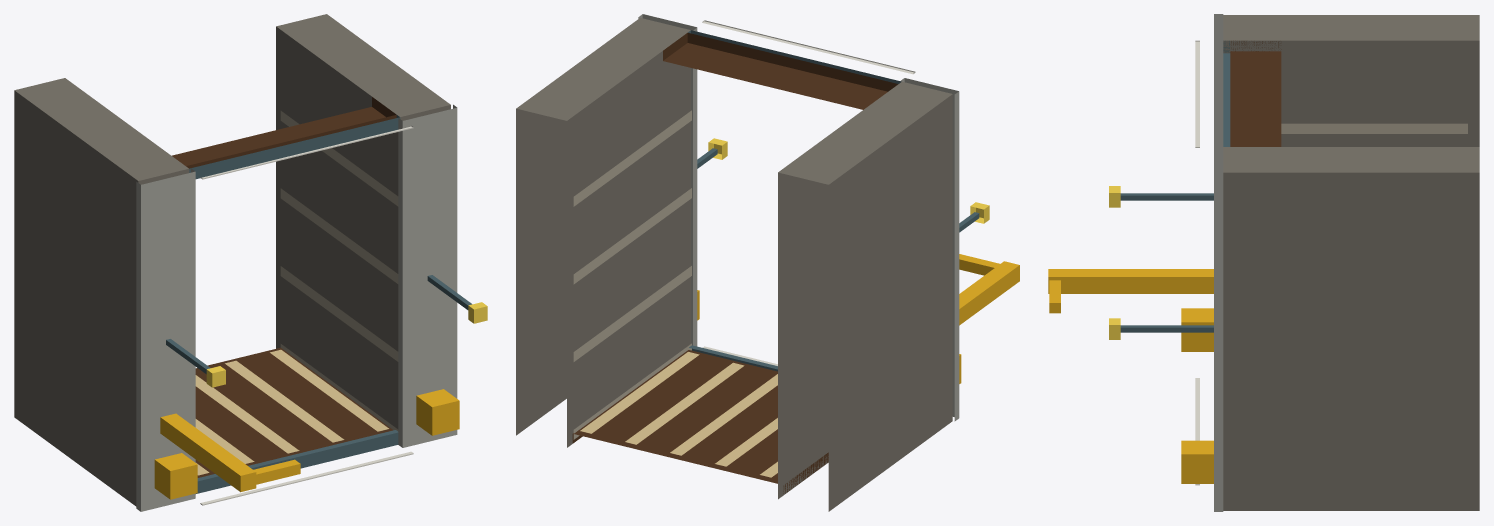
File: middle.glb
3 renders of one model, left to right at view 1: azimuth 30°, elevation 25°; view 2: azimuth 150°, elevation 25°; view 3: azimuth 270°, elevation 25°, orthographic. The views are drawn at different scales.
Parts seen in each view (by area): view 1: lock_middle; view 2: lock_middle; view 3: lock_middle.
Part boxes in pixels (x1,y1,x2,y2): lock_middle: (14, 14, 487, 511); lock_middle: (516, 14, 1019, 511); lock_middle: (1048, 14, 1479, 511).
Size of the model in its own units: 16.2 by 16 by 18.5.
